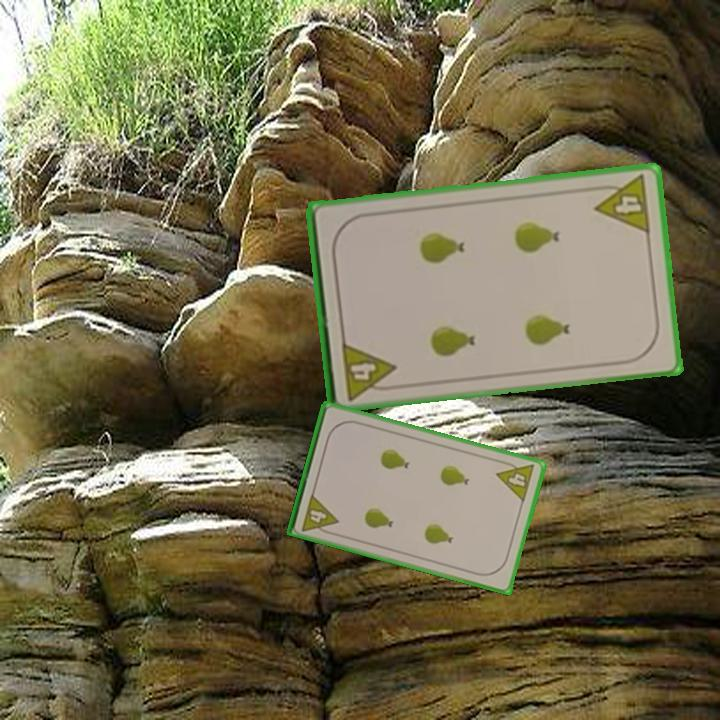4p: (589, 171, 653, 237), (338, 338, 400, 403), (493, 456, 538, 505), (298, 490, 341, 538)
